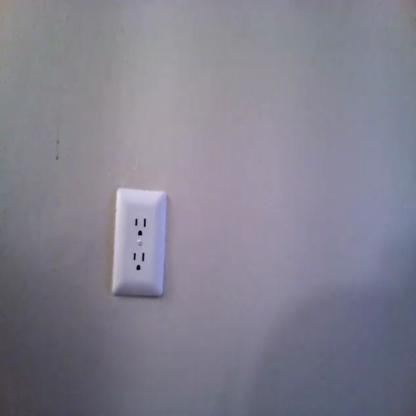OUTLET: (115, 187, 164, 296)
